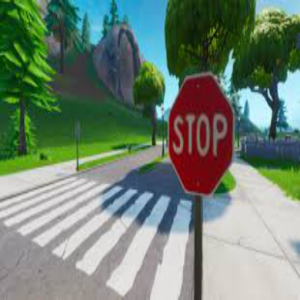STOP_SIGN: (167, 71, 235, 196)
